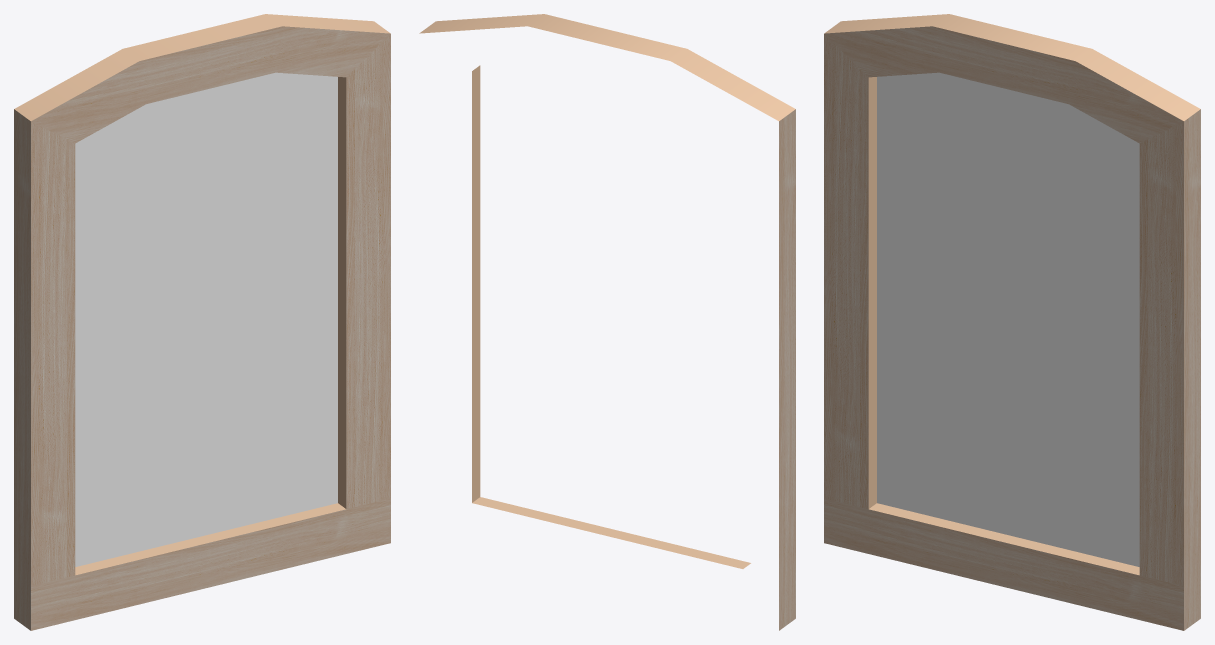
File: specchio-lavandino-texture.glb
3 views of the same model, side by side, from view 1: azimuth 30°, elevation 25°; view 2: azimuth 150°, elevation 25°; view 3: azimuth 330°, elevation 25° (orthographic).
Parts seen in each view (by area): view 1: bathroomMirror(Clone); view 2: bathroomMirror(Clone); view 3: bathroomMirror(Clone).
Boxes of the visible parts, x1=… form: bathroomMirror(Clone): x1=14, y1=14, x2=390, y2=630; bathroomMirror(Clone): x1=419, y1=14, x2=795, y2=630; bathroomMirror(Clone): x1=824, y1=14, x2=1200, y2=630.
Bounding box in the file's own units: 0.3013 × 0.4346 × 0.0244.
Materials: 3 (1 with a texture image).
